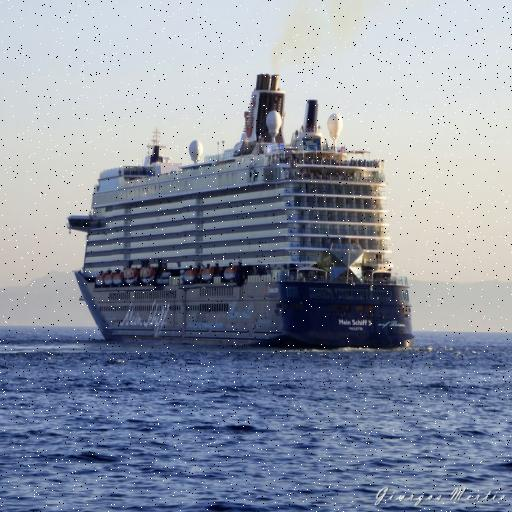cruises: (65, 69, 421, 357)
